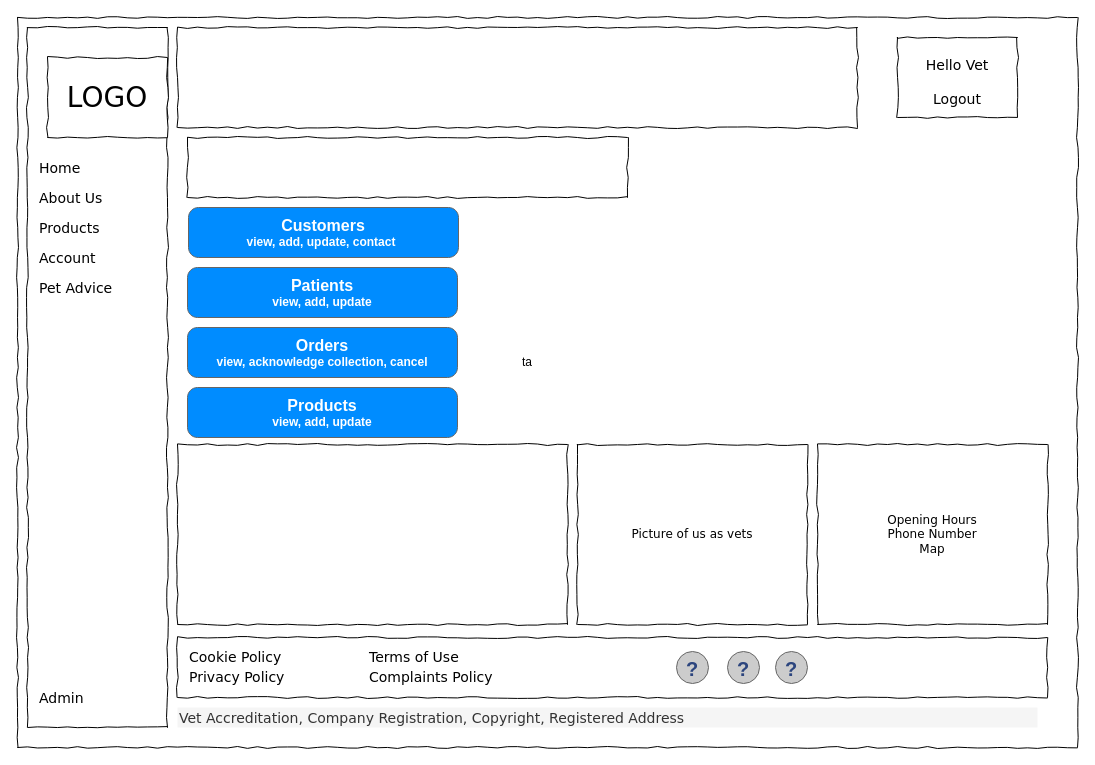
This 1095x765 diagram has some shape labels left out. The shapes that lost their labels are listed below. From the top down, each one's centre as x and y in pixels, then its label:
At (517,77): "Vet Clinic Name".
At (407,167): "Admin Tasks".
At (372,534): "Reviews/testimonials".
